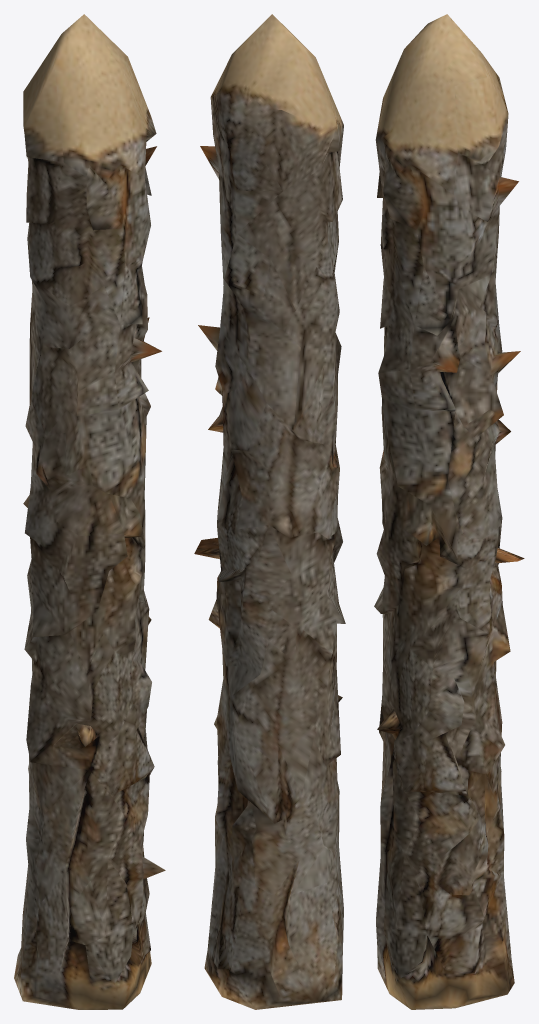
File: bb_palisade_log.0390fe3cf0.glb
The picture shows the model from 3 angles, left to right: view 1: azimuth 30°, elevation 25°; view 2: azimuth 150°, elevation 25°; view 3: azimuth 330°, elevation 25°; orthographic projection.
Parts seen in each view (by area): view 1: bb_palisade_log; view 2: bb_palisade_log; view 3: bb_palisade_log.
Boxes of the visible parts, <box> form: bb_palisade_log: <box>14,14,165,1009</box>; bb_palisade_log: <box>194,14,345,1009</box>; bb_palisade_log: <box>374,14,524,1009</box>.
Size of the model in its own units: 0.8943 by 6 by 0.7669.
1 material, 1 textured.
